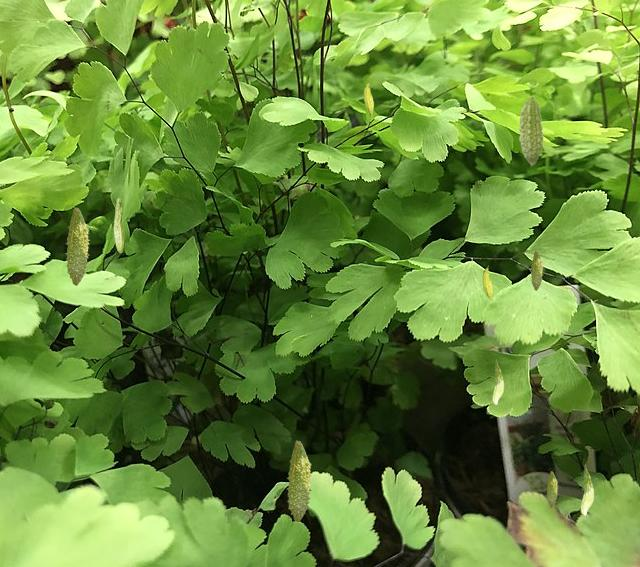ampalaya: (286, 440, 312, 523), (65, 207, 90, 286), (518, 96, 543, 166), (580, 463, 594, 516), (113, 198, 124, 253), (492, 358, 504, 405), (530, 249, 543, 291), (546, 470, 558, 508), (482, 265, 493, 301), (363, 80, 374, 116)
